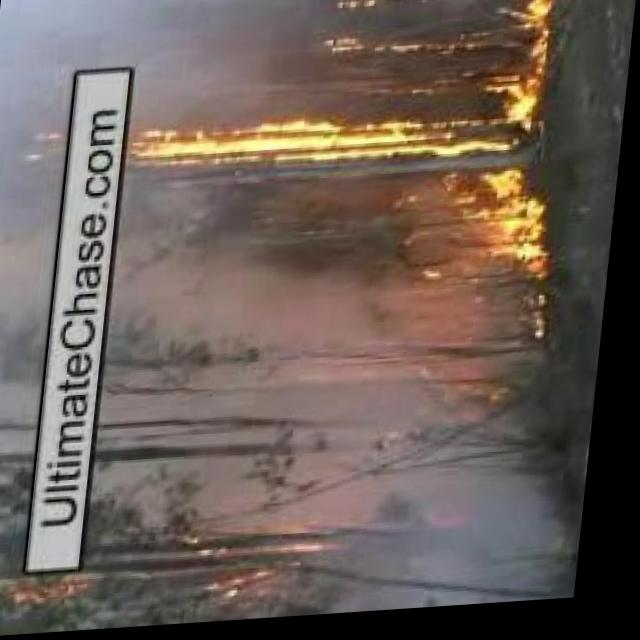Fire: (58, 105, 509, 183), (462, 177, 558, 312), (8, 564, 126, 620), (195, 545, 304, 603), (521, 0, 560, 135), (315, 32, 466, 62)
